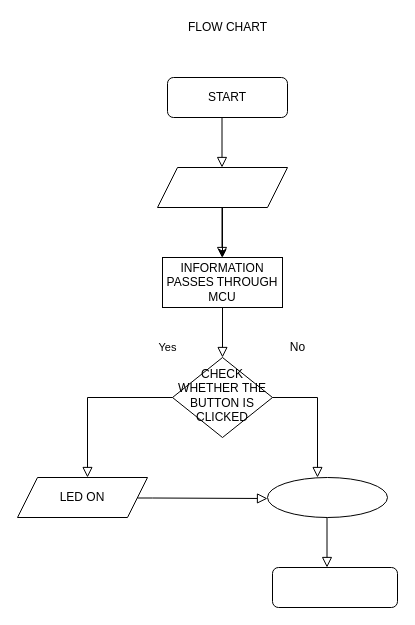
Image size: 415x625. Some labels were removed from this diagram. The centre of each missing label's shape, as x and y in pixels:
"END" goes at pixel 335 587.
"PRESS BUTTON" goes at pixel 222 187.
